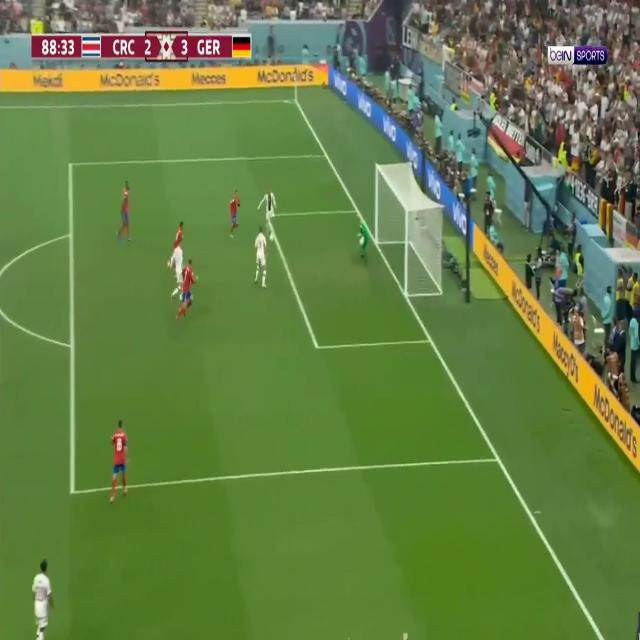GoalKeeper: (354, 212, 372, 267)
TEAM 1: (108, 420, 134, 508), (180, 257, 200, 317), (171, 218, 188, 275), (118, 180, 134, 240), (227, 188, 241, 238)
TEAM 2: (28, 552, 57, 639), (253, 224, 270, 287), (168, 244, 185, 302), (258, 188, 275, 242)
